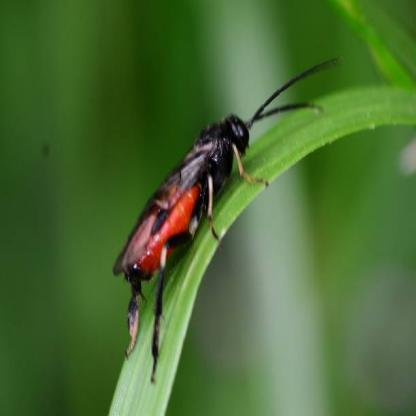sawfly: (109, 44, 338, 388)
